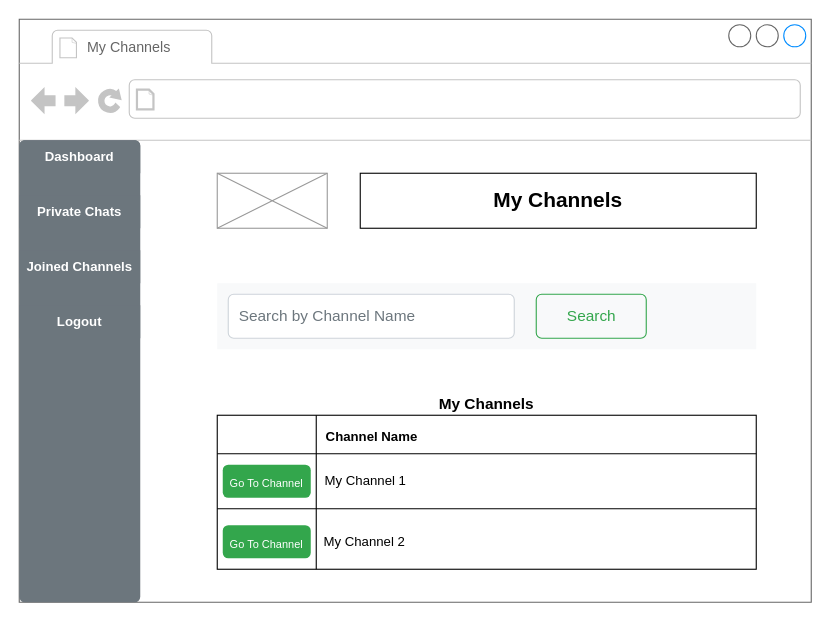
Some shapes in this 831 by 622 pixel diagram are drawn without their labels. The box of each missing label's shape, as (x1, y1, x2, y2) in pixels:
https://www.messenger.blahblah.co.za/Channels/MyChannels: (161, 84, 580, 114)
My Channels Icon: (216, 172, 327, 228)
